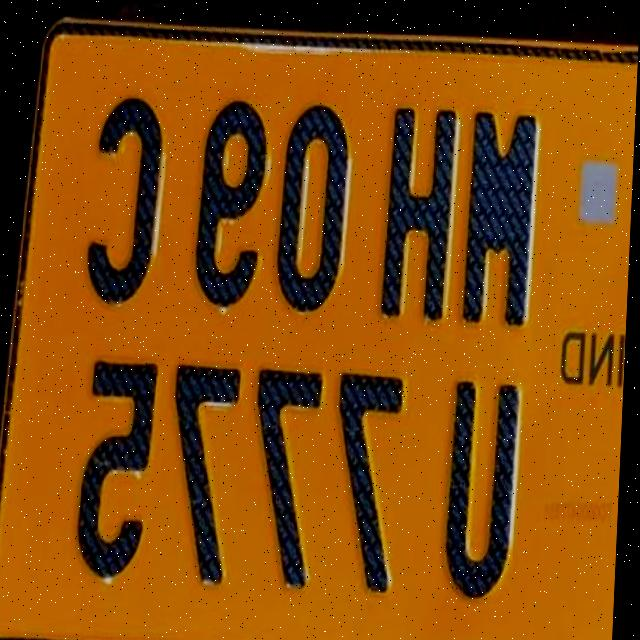plate: (0, 1, 640, 640)
